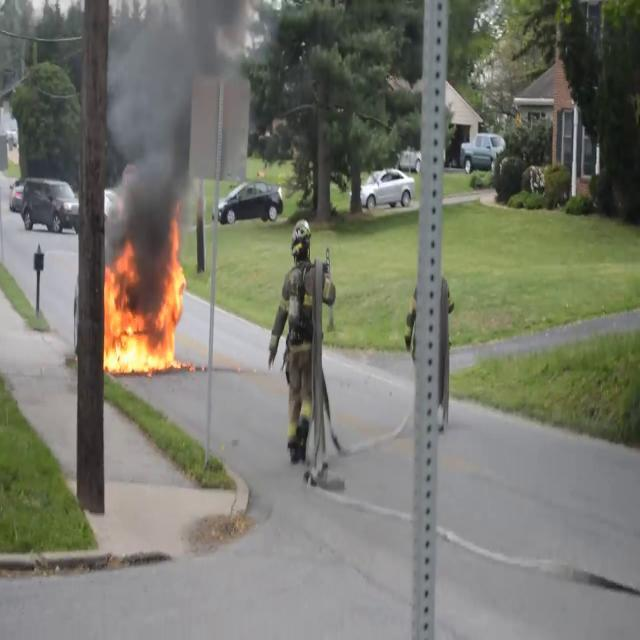Fire: (103, 234, 187, 376)
Smoke: (105, 0, 242, 248)
